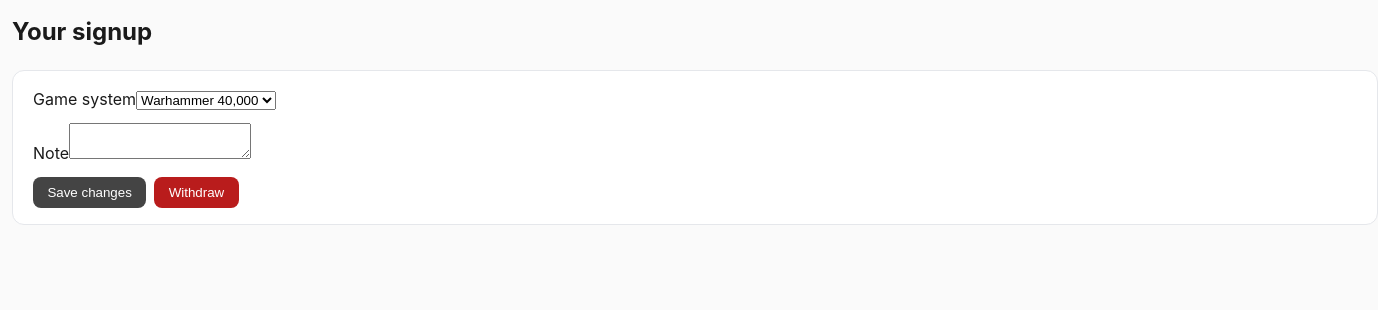
Test case: ManageSignupPage › lets the guest change the system and save
The image size is (1378, 310).
Expected: the heading "Your signup" is shown, x1=12 y1=17 x2=152 y2=46
Select "Blood Bowl" in the dropdown labelled "Game system" at x=206, y=100, box x1=136 y1=91 x2=276 y2=110
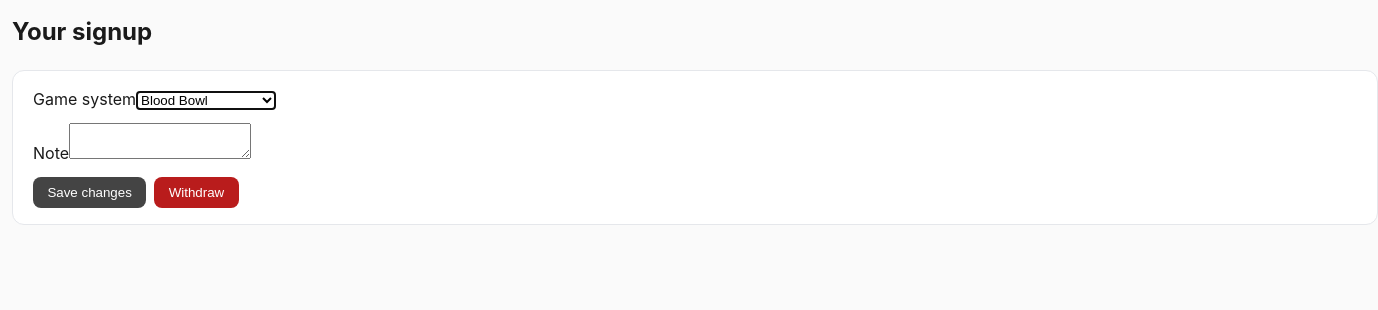
Click the button "Save changes".
click(90, 192)  # box x1=33 y1=177 x2=146 y2=208
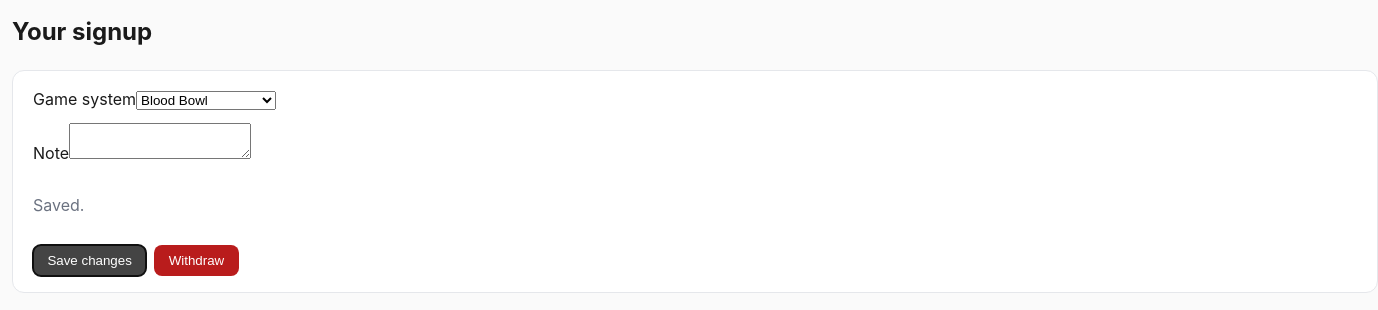
Expected: the text "Saved." is shown, x1=33 y1=195 x2=84 y2=215
